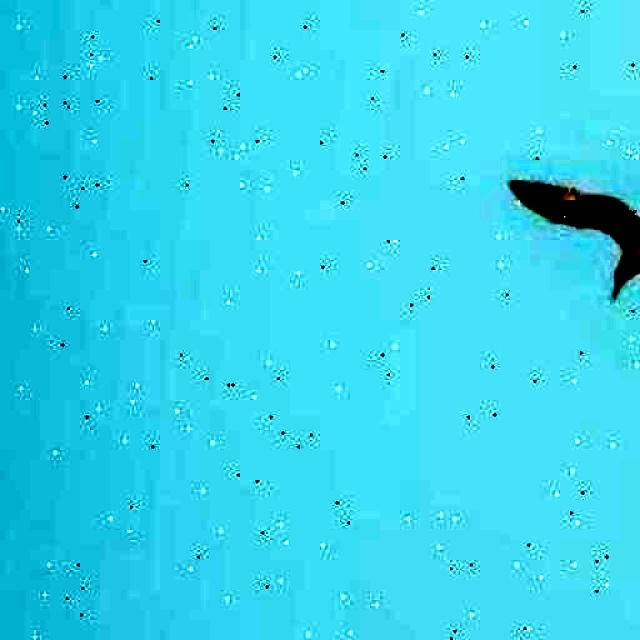airplane: (486, 176, 640, 436)
